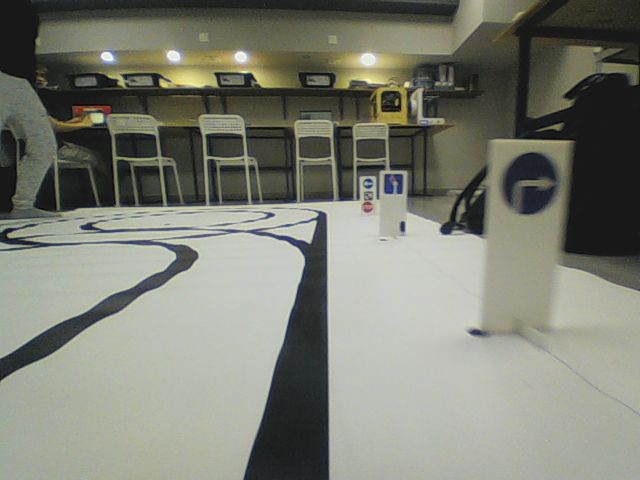Right: (500, 150, 561, 217)
priority_movement: (382, 173, 404, 195)
